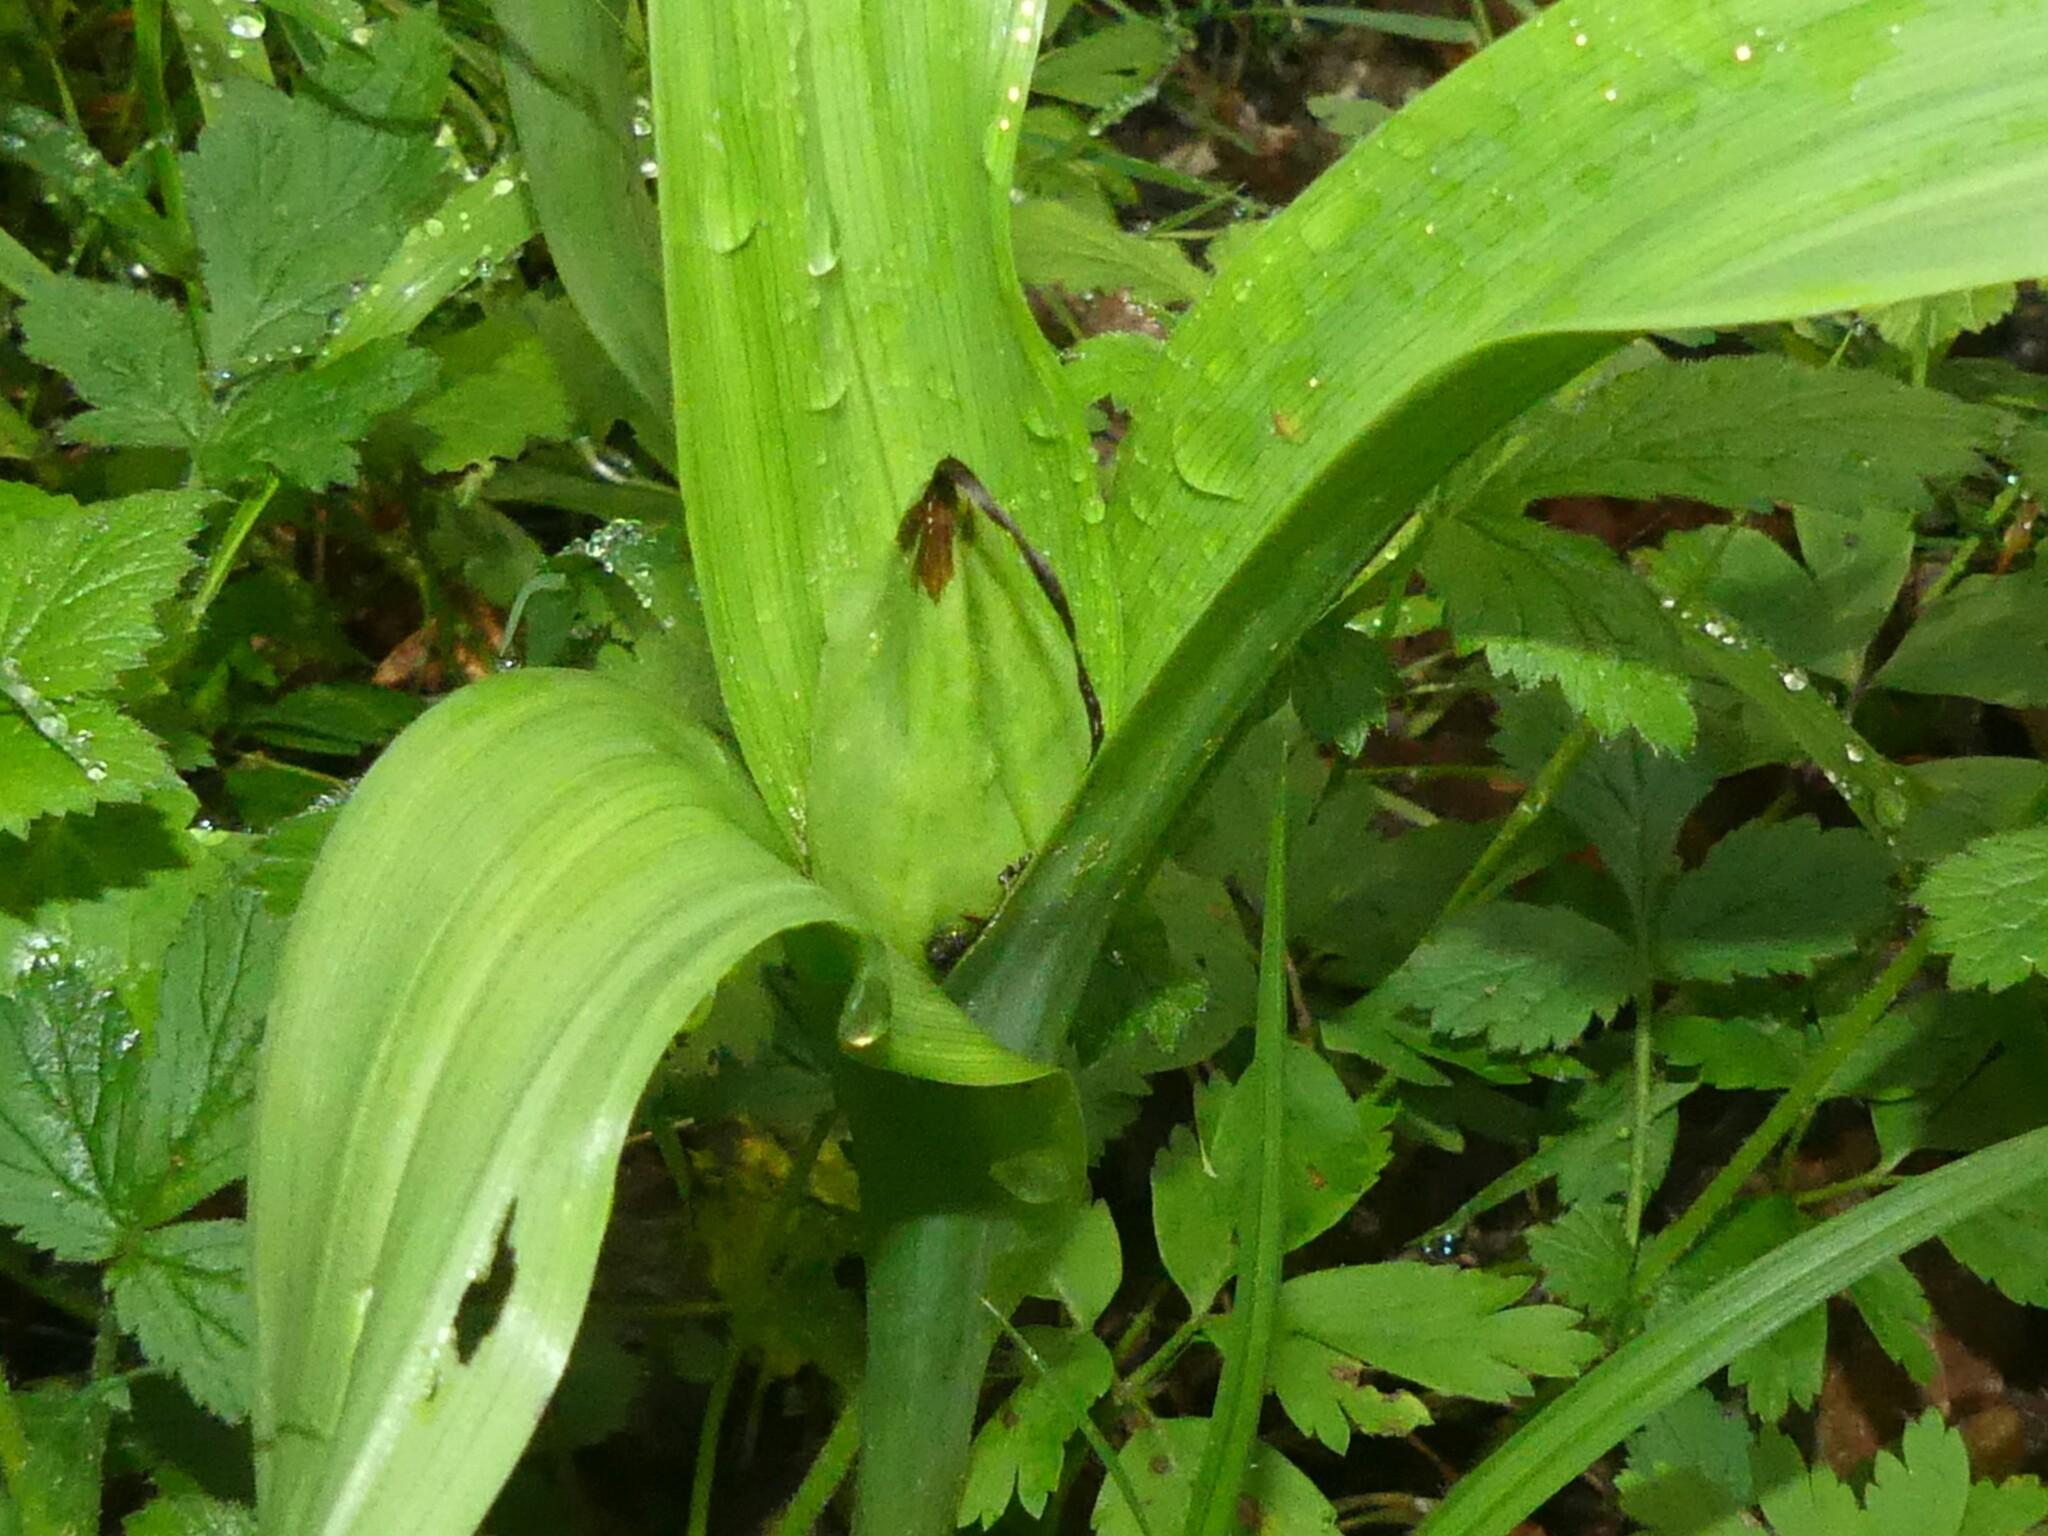Colchicum autumnale L: (498, 11, 1571, 1318)
